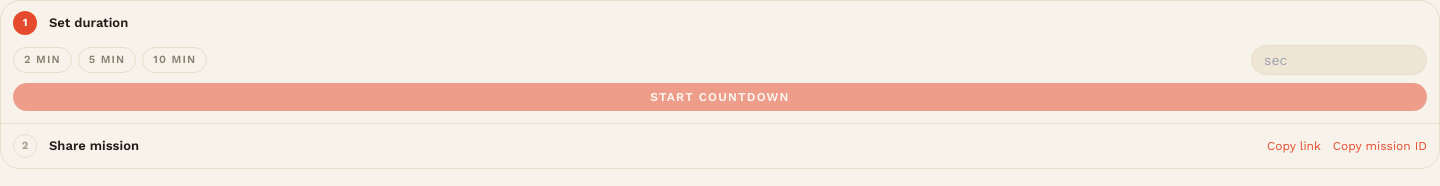
it: HostRallyPointSteps › enables Start countdown only after a duration is chosen
Expected: the button "Start countdown" is disabled, [13, 83, 1427, 111]
Step 1. Click the button "5 MIN" → (107, 60), box [78, 47, 136, 73]
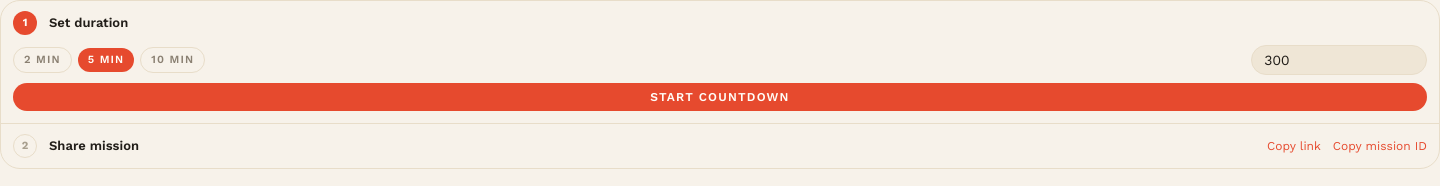
Expected: the button "Start countdown" is enabled, [13, 83, 1427, 111]
